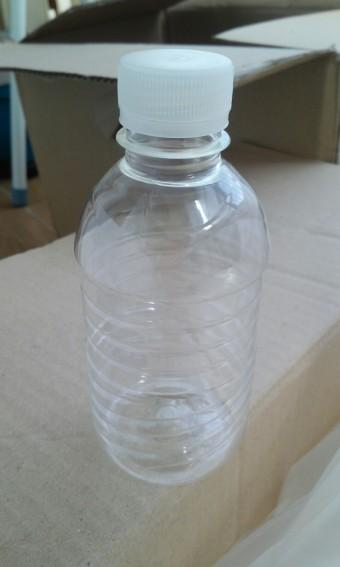plastic_bottle: (63, 46, 280, 489)
